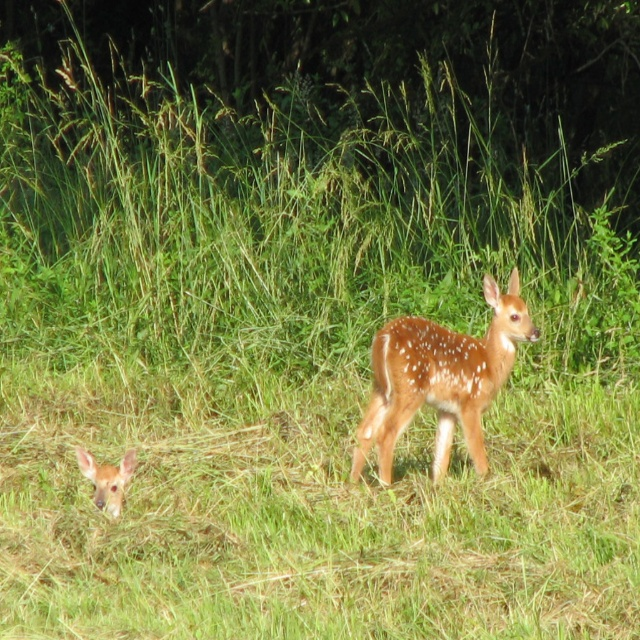Deer: (349, 263, 541, 489), (77, 445, 135, 526)
